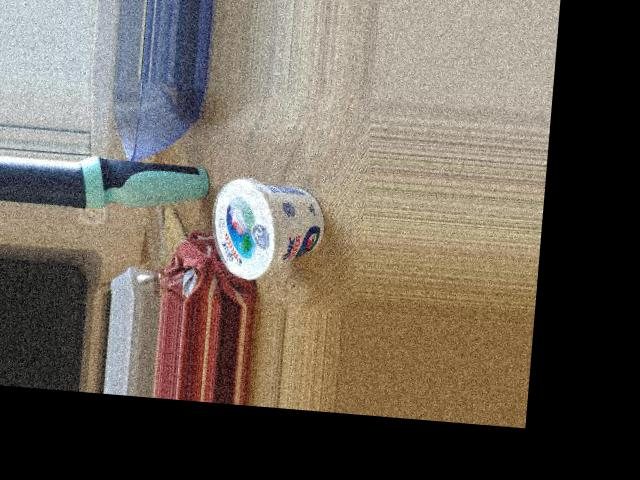cotage: (201, 170, 333, 270)
